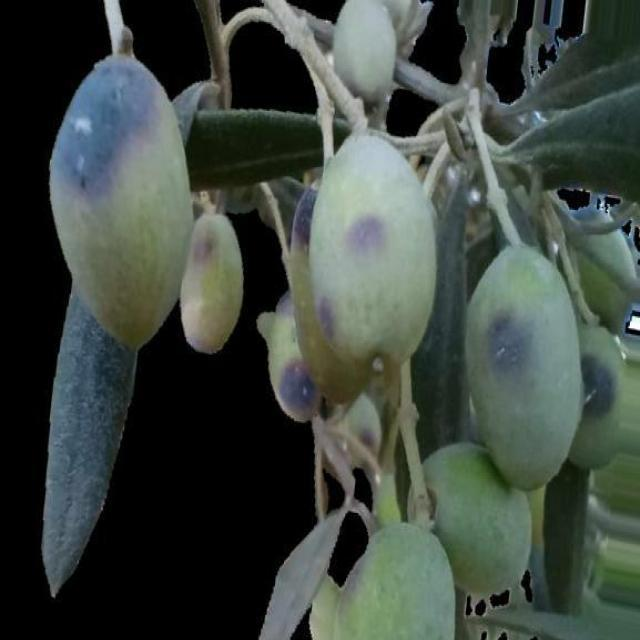Anthracnose: (50, 55, 192, 352), (310, 130, 434, 364), (466, 245, 582, 490), (180, 210, 243, 352)
